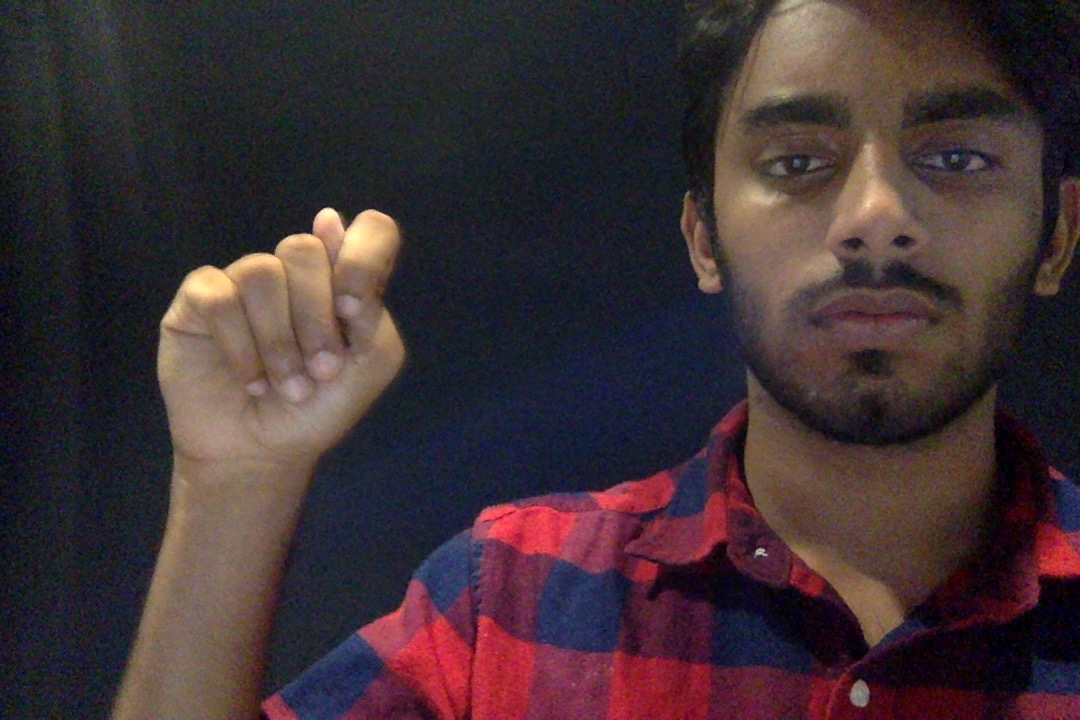t: (116, 171, 431, 557)
